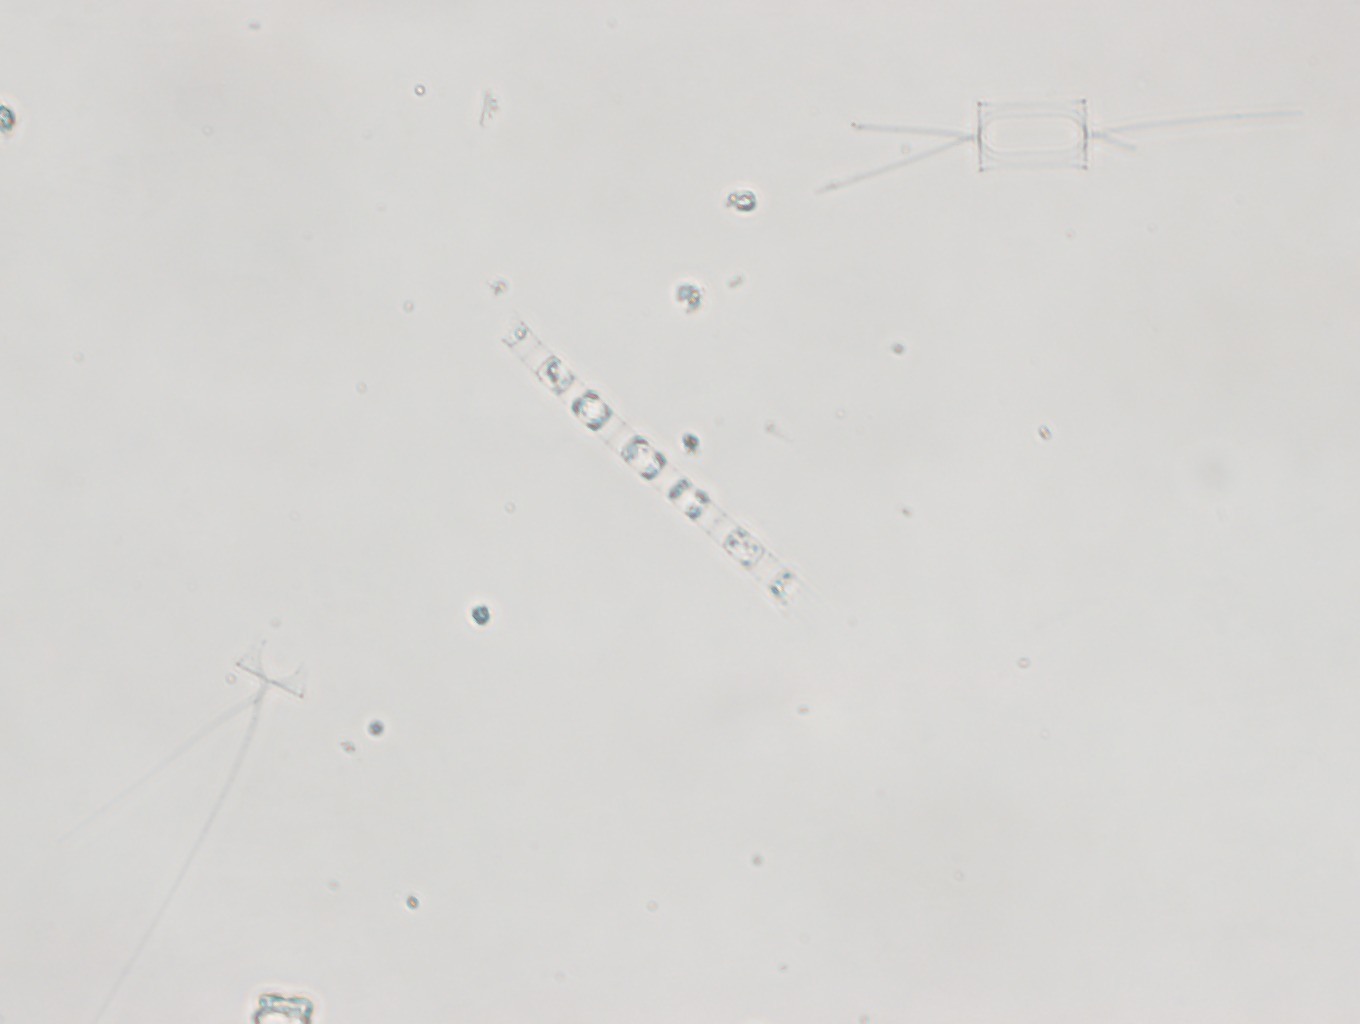chaetoceros: (808, 94, 1328, 200)
skeletonema: (490, 315, 832, 621)
